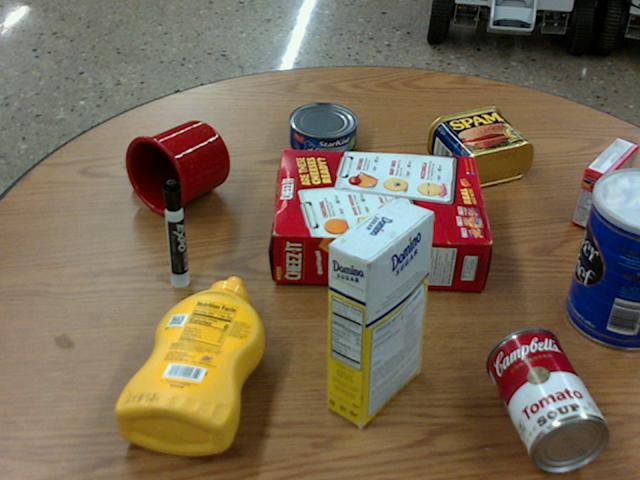cracker_box: (273, 149, 488, 287)
gelatin_box: (572, 138, 636, 230)
large_marker: (162, 179, 187, 286)
master_chef_can: (565, 169, 639, 350)
mug: (124, 119, 228, 215)
mustard_bottle: (116, 276, 264, 453)
potted_meat_can: (427, 107, 533, 186)
sugar_box: (326, 199, 433, 425)
tomato_soup_can: (487, 326, 608, 468)
tuna_fish_can: (289, 101, 357, 157)
